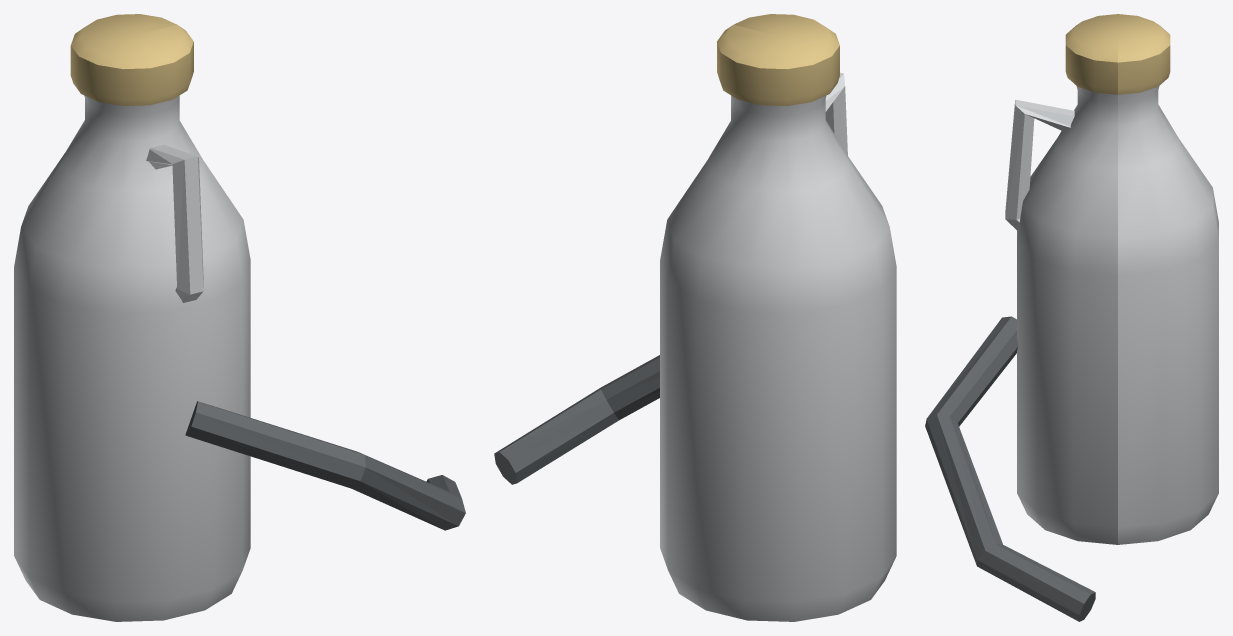
File: bar-pub-and-brewery-taproom-line-cleaning-bottle-9949d5b5__18358.glb
3 renders of one model, left to right at view 1: azimuth 30°, elevation 25°; view 2: azimuth 150°, elevation 25°; view 3: azimuth 270°, elevation 25°, orthographic. The views are drawn at different scales.
Visible parts, largest first — view 1: line-cleaning-bottle; view 2: line-cleaning-bottle; view 3: line-cleaning-bottle.
Boxes of the visible parts, x1,y1,x2,y2 form: line-cleaning-bottle: (14, 14, 465, 621); line-cleaning-bottle: (494, 14, 896, 621); line-cleaning-bottle: (925, 14, 1218, 621).
Bounding box in the file's own units: 0.3371 × 0.428 × 0.2413.
